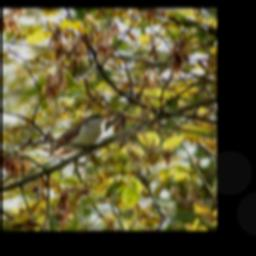Cuckoo: (41, 108, 117, 154)
